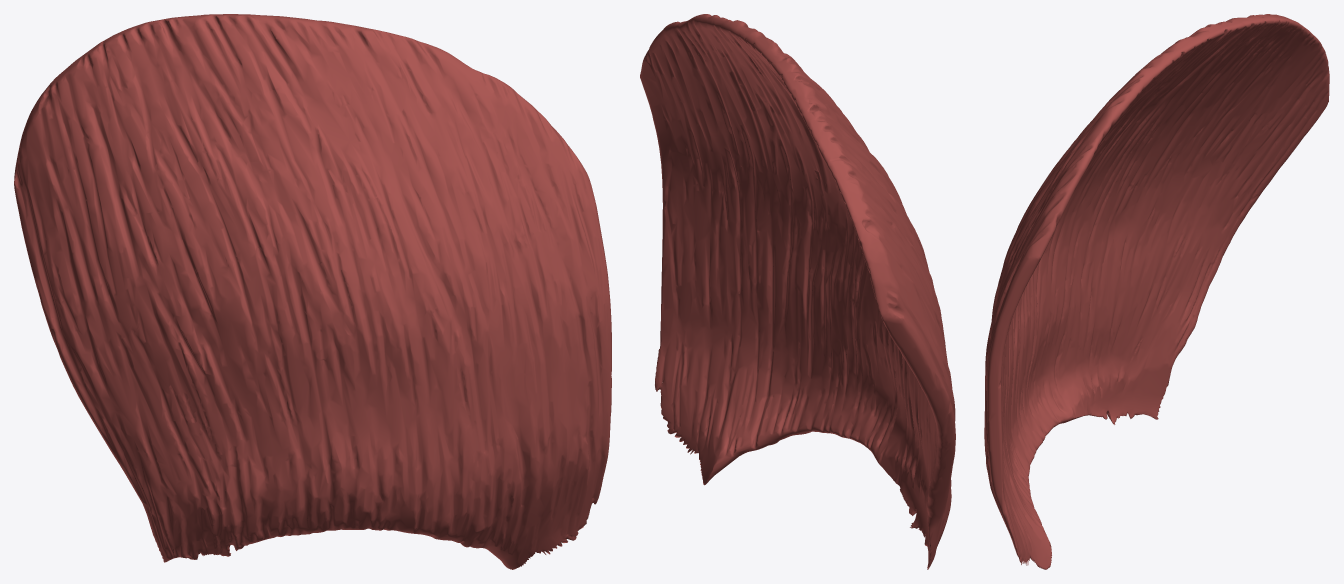
File: FMA46759.glb
3 views of the same model, side by side, from view 1: azimuth 30°, elevation 25°; view 2: azimuth 150°, elevation 25°; view 3: azimuth 270°, elevation 25° (orthographic). The views are drawn at different scales.
Visible parts, largest first — view 1: FMA46759; view 2: FMA46759; view 3: FMA46759.
Boxes of the visible parts, x1,y1,x2,y2 form: FMA46759: [14, 14, 611, 569]; FMA46759: [640, 14, 955, 569]; FMA46759: [984, 14, 1329, 569].
Bounding box in the file's own units: 0.0566 × 0.0679 × 0.0454.
